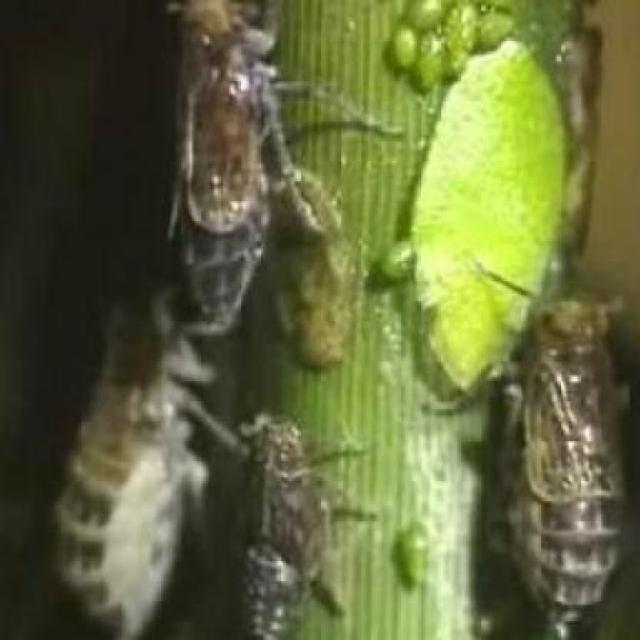brown-planthopper: (52, 285, 195, 633), (514, 287, 631, 640), (173, 2, 281, 326), (237, 407, 325, 640)
